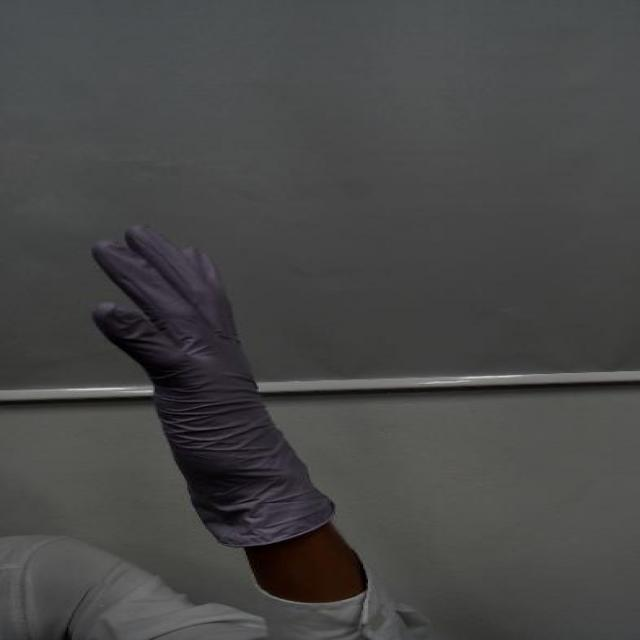with_gloves: (66, 219, 322, 459)
